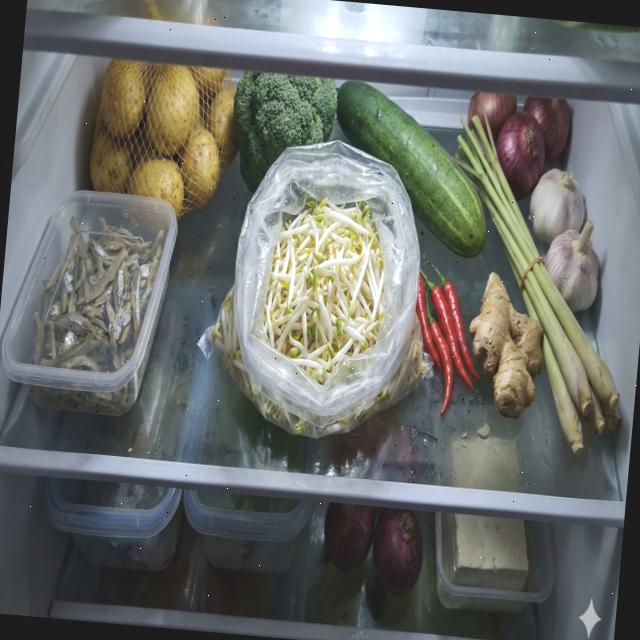anchovies: (24, 213, 168, 420)
bean_sprouts: (203, 188, 441, 448)
brocolli: (225, 68, 339, 200)
chili: (406, 252, 490, 419)
cucumber: (324, 79, 498, 260)
garlic: (520, 165, 608, 316)
ginger: (461, 270, 551, 420)
lemongrass: (425, 96, 640, 464)
onion: (459, 90, 572, 206)
potato: (86, 54, 244, 226)
tofu: (439, 432, 539, 592)
